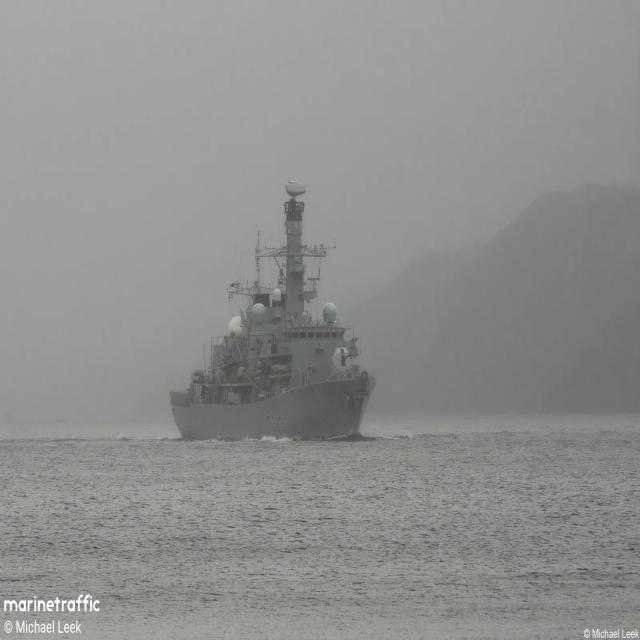Military: (170, 181, 376, 439)
